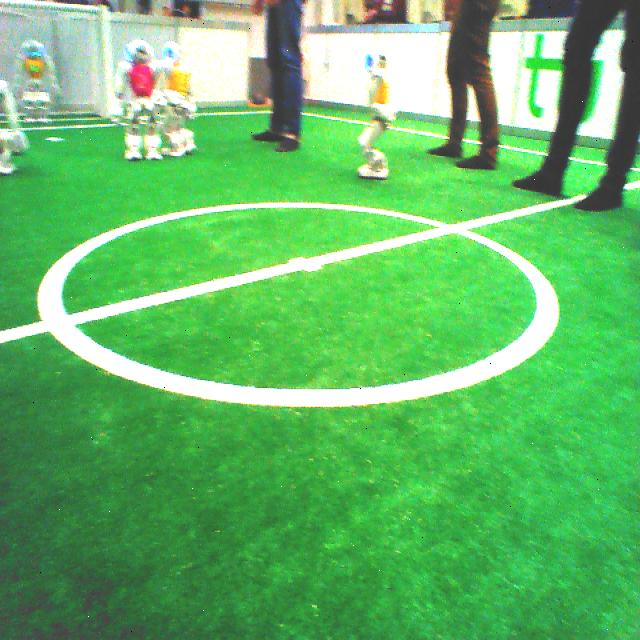goalpost: (95, 7, 117, 116)
